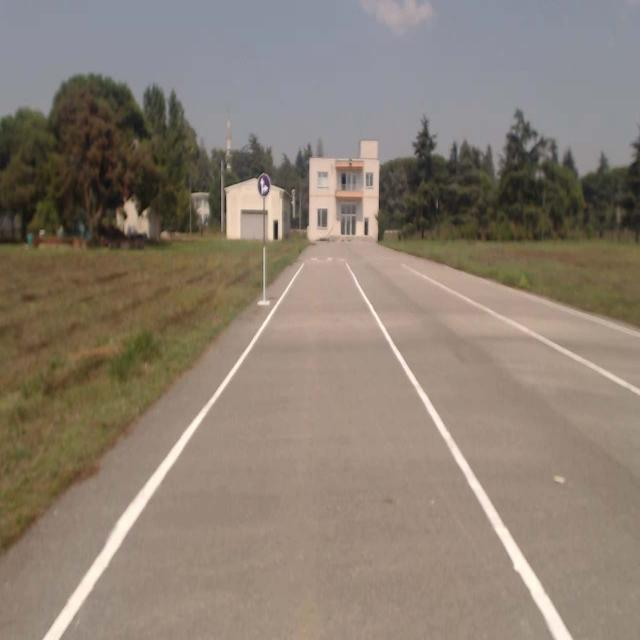ilerisag: (258, 174, 270, 196)
